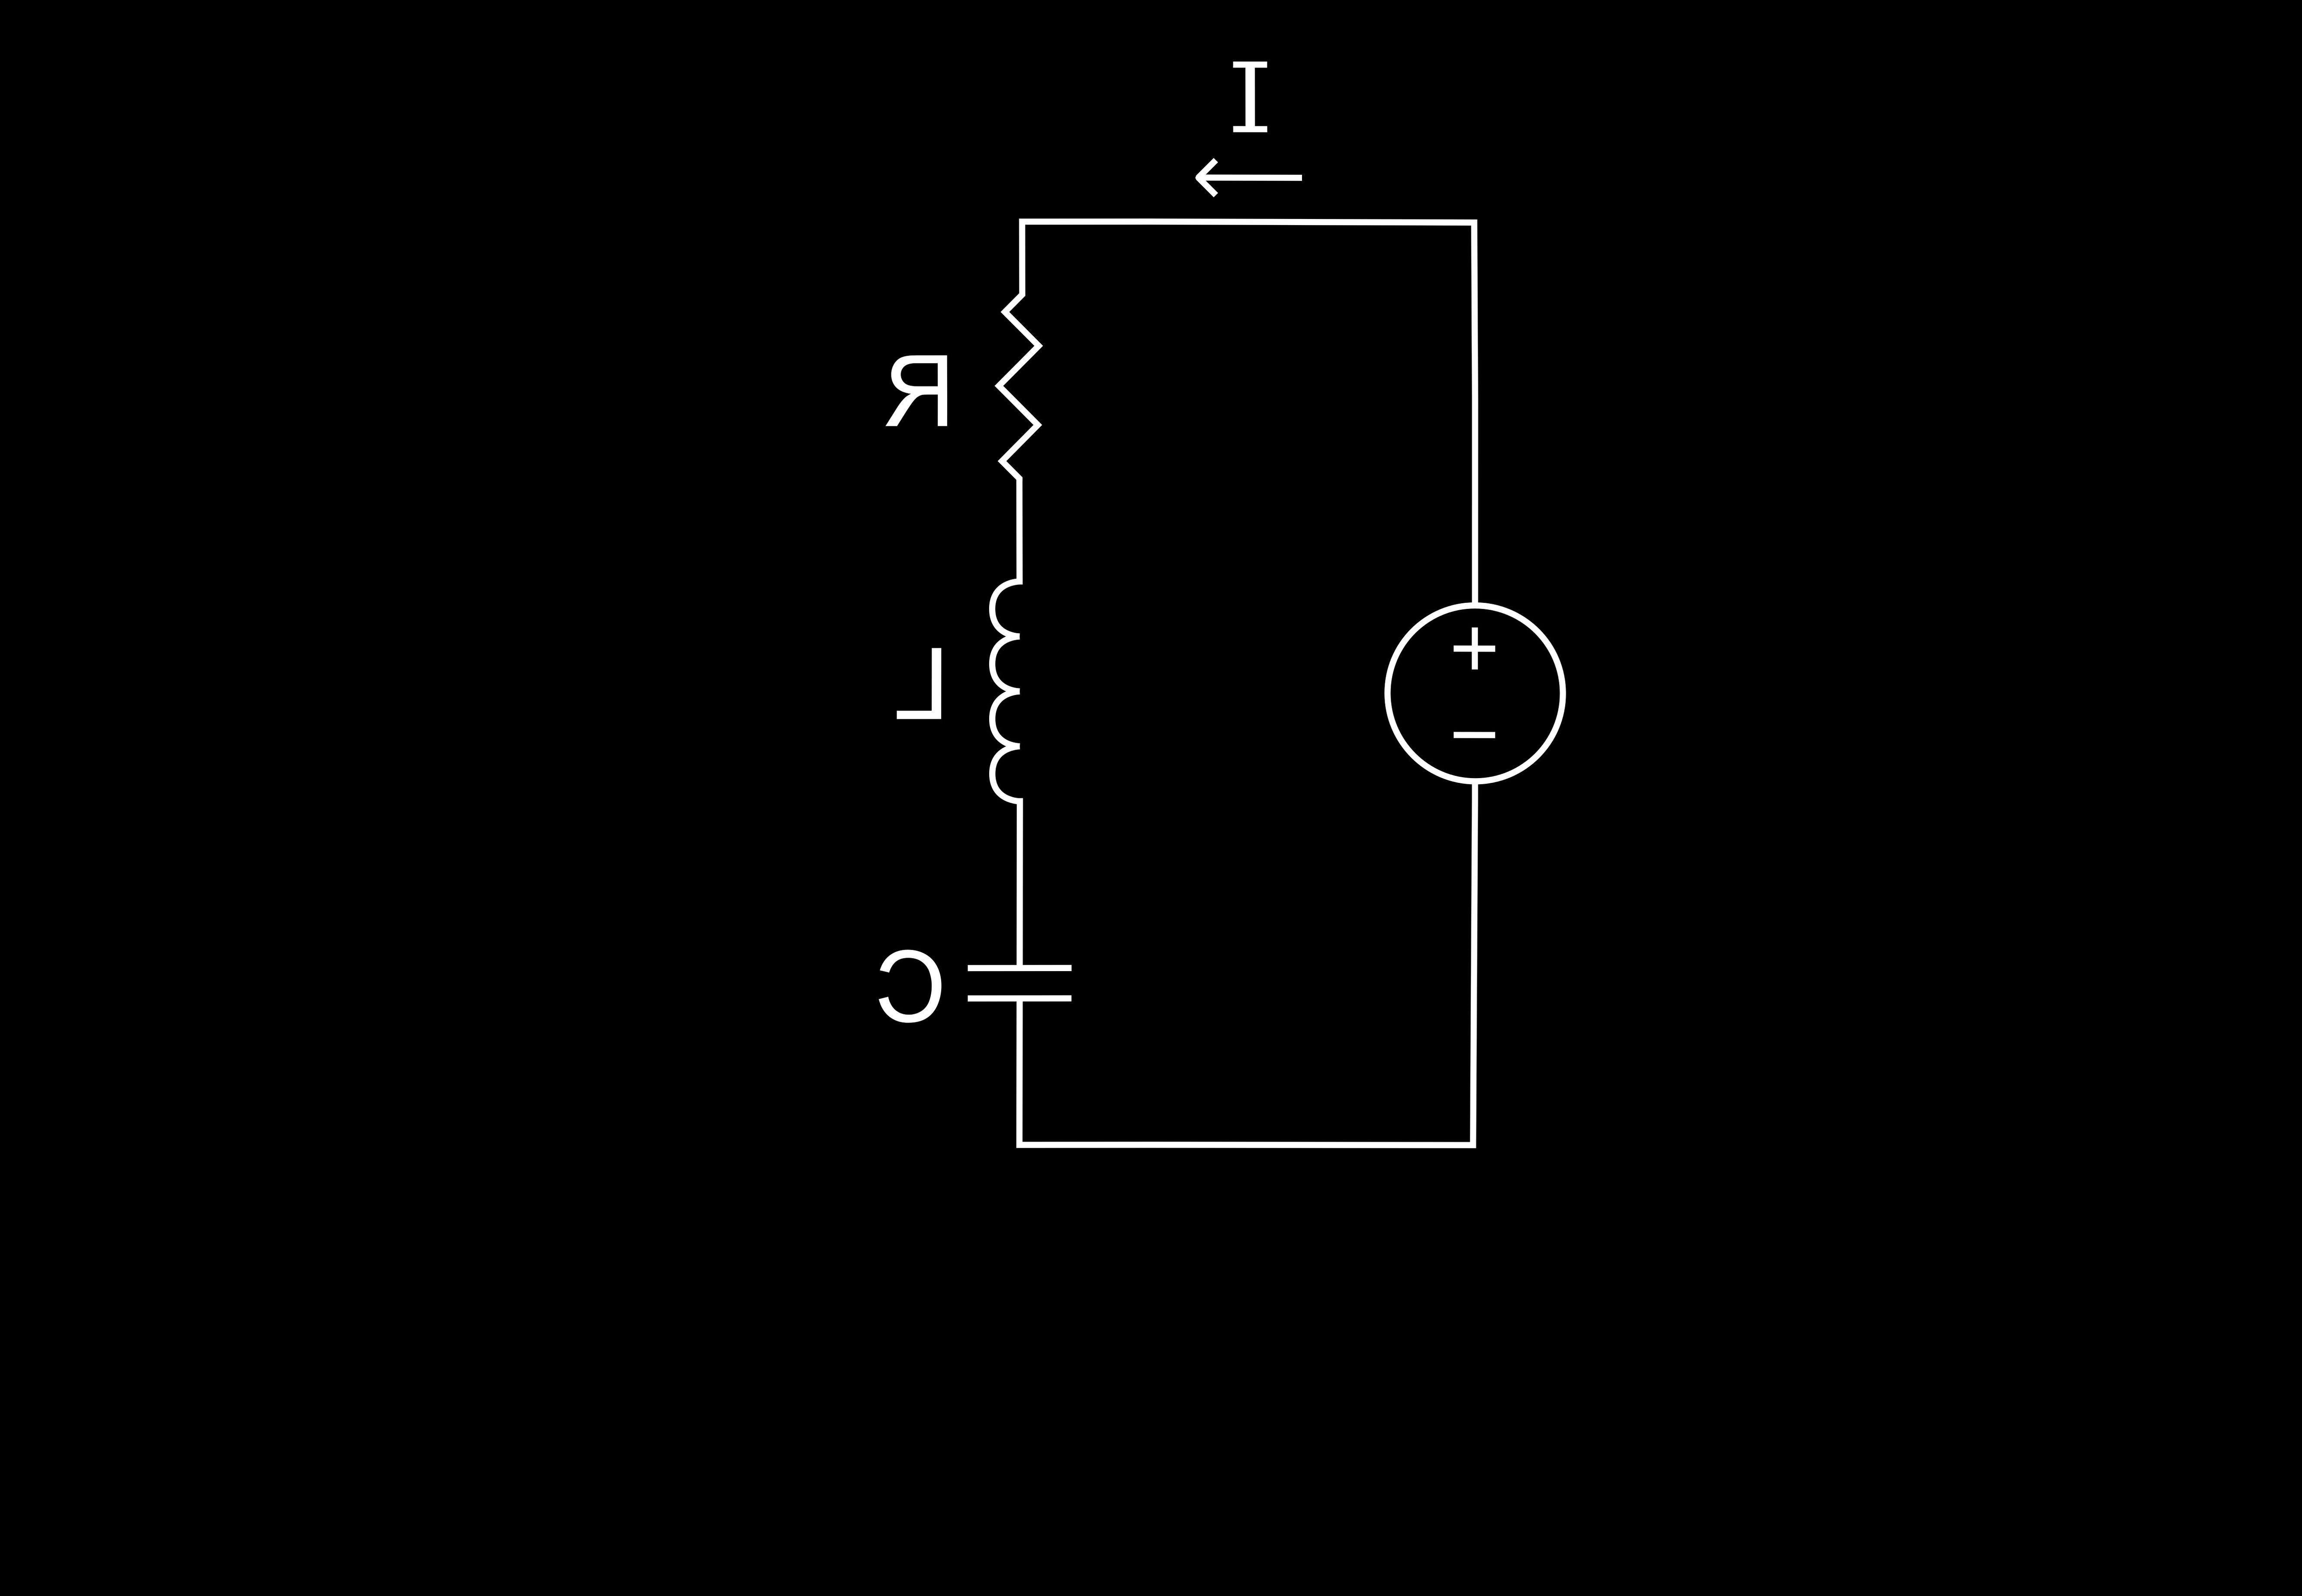Battery: (1328, 546, 1601, 824)
